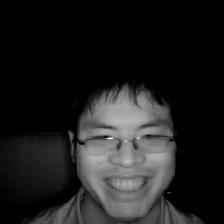happy: (56, 68, 193, 221)
